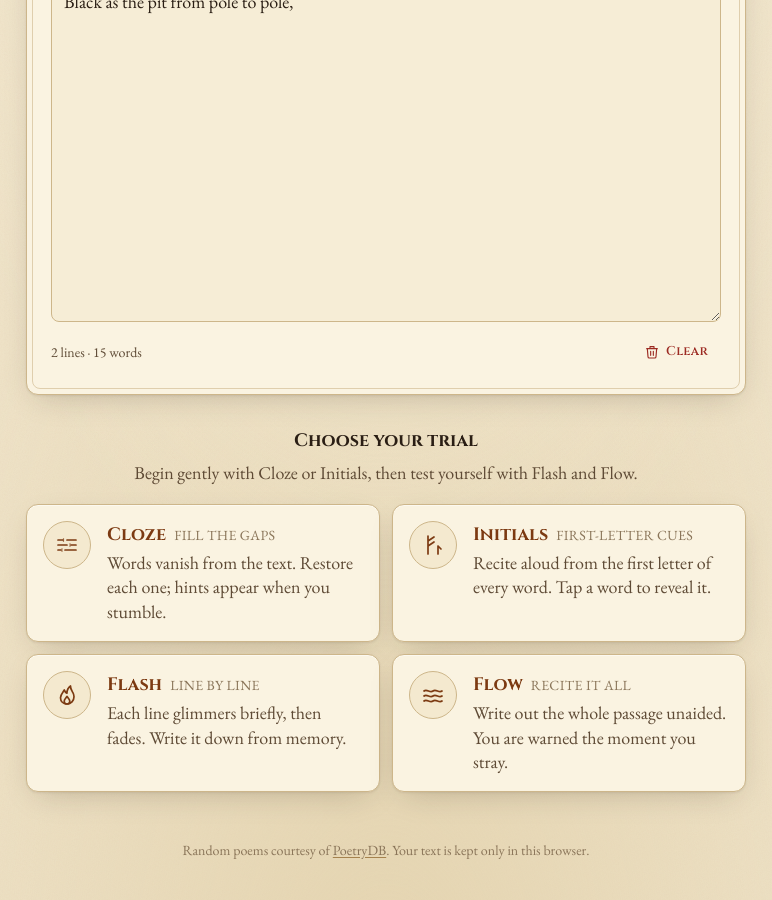
navigation › opens a mode via the hash, switches modes and returns to the editor
(page scrolled)
Step 1. Click the button "Initials" → (569, 573), box [392,504,746,642]
(page scrolled)
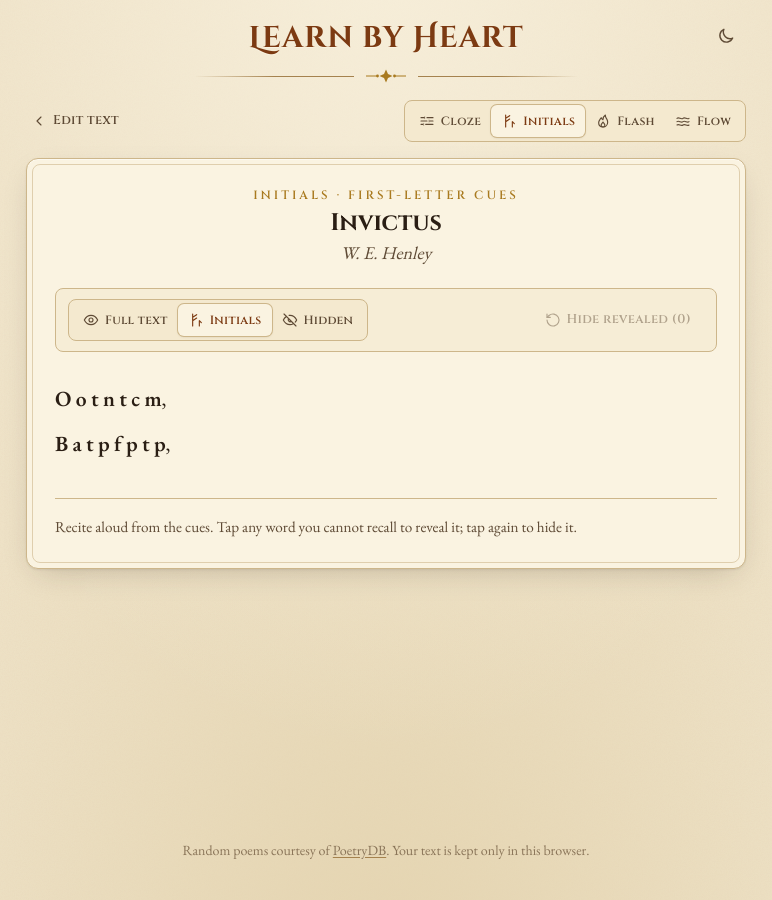
Expected: the heading "Invictus" is shown, [330,207,442,239]
Step 2. Click the radio button labelled "Flow" → (703, 121), box [675,113,731,129]
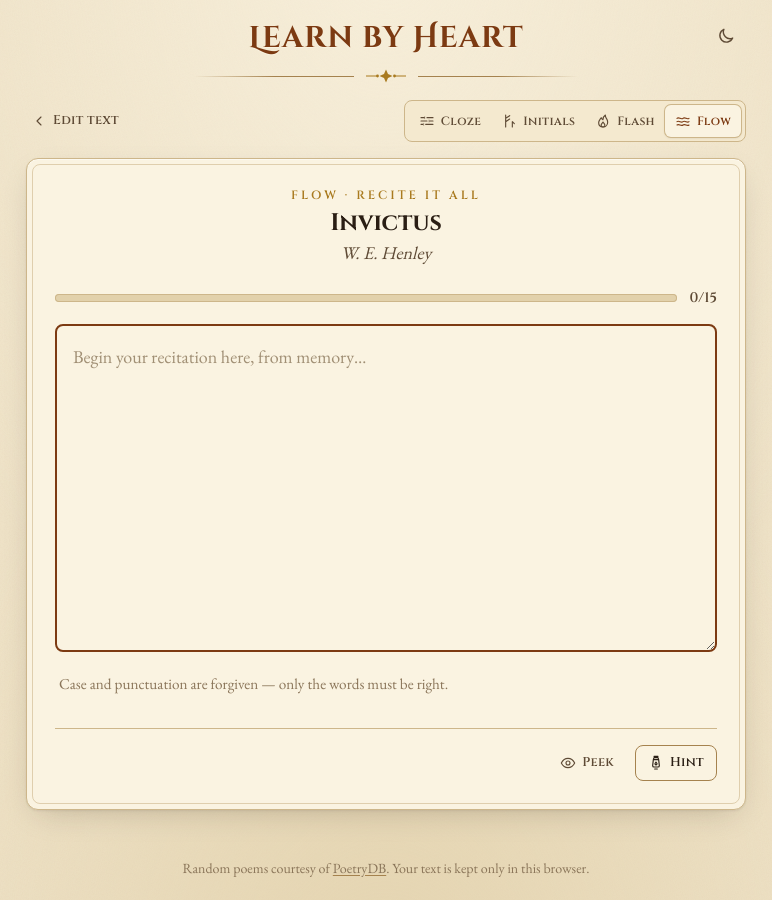
Expected: the text box named "recite" is shown, [55,324,717,652]
Step 3. Click the button "Edit text" → (75, 121), box [18,103,132,139]
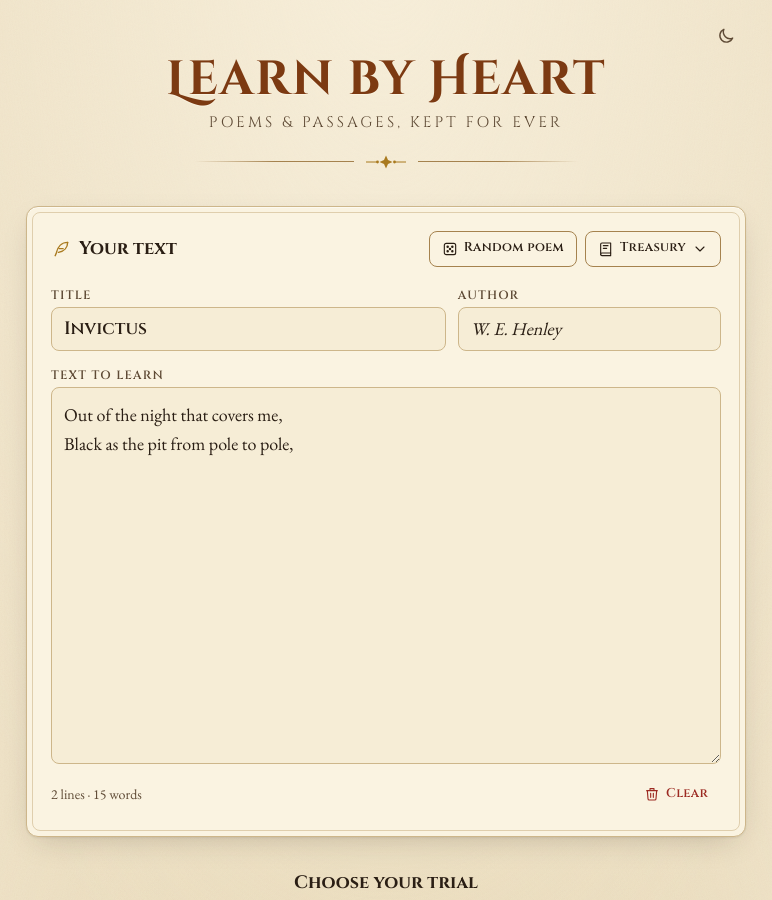
Expected: the text box labelled "Text to learn" is shown, [51,387,721,764]
